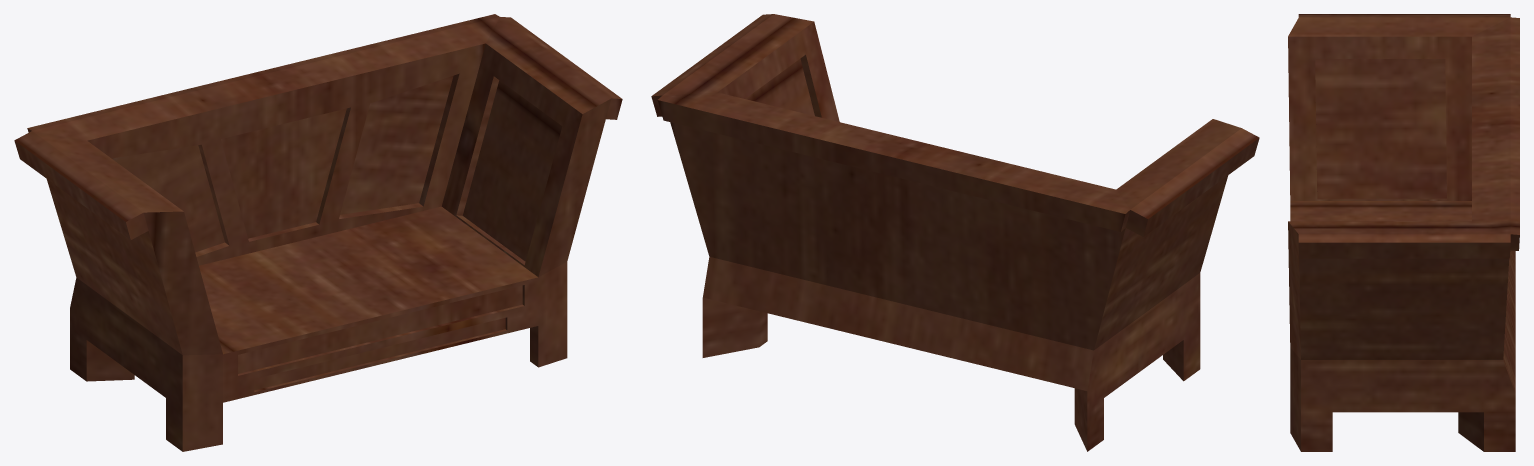
The model's file is Kursi1.fbx.
3 renders of one model, left to right at view 1: azimuth 30°, elevation 25°; view 2: azimuth 150°, elevation 25°; view 3: azimuth 270°, elevation 25°, orthographic. The views are drawn at different scales.
Parts seen in each view (by area): view 1: Cube.006; view 2: Cube.006; view 3: Cube.006.
Boxes of the visible parts, <box> form: Cube.006: <box>14,14,622,451</box>; Cube.006: <box>651,14,1259,451</box>; Cube.006: <box>1288,14,1519,451</box>.
Bounding box in the file's own units: 256 × 123 × 109.
1 material, 1 textured.
